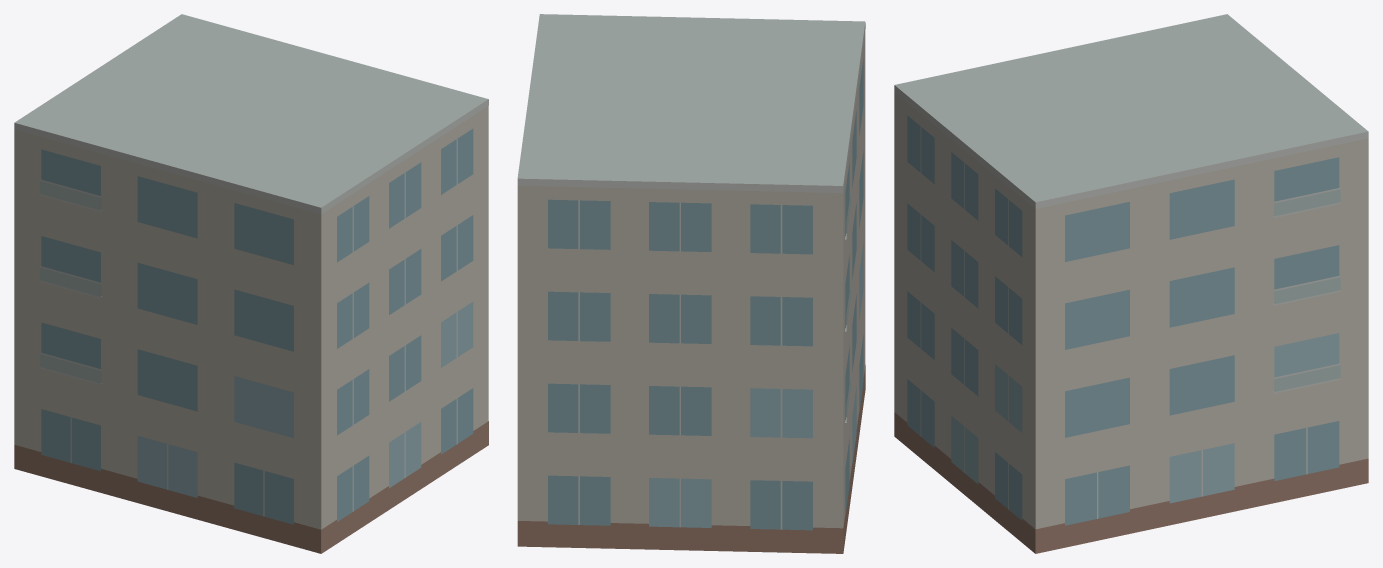
File: survey-upis-32486855.glb
The picture shows the model from 3 angles, left to right: view 1: azimuth 30°, elevation 25°; view 2: azimuth 150°, elevation 25°; view 3: azimuth 270°, elevation 25°; orthographic projection. The views are drawn at different scales.
Visible parts, largest first — view 1: survey-upis-32486855.tmp; view 2: survey-upis-32486855.tmp; view 3: survey-upis-32486855.tmp.
Boxes of the visible parts, x1,y1,x2,y2 form: survey-upis-32486855.tmp: (14,14,488,553); survey-upis-32486855.tmp: (517,14,865,553); survey-upis-32486855.tmp: (894,14,1368,553).
Size of the model in its own units: 14.72 by 12.8 by 15.66.
